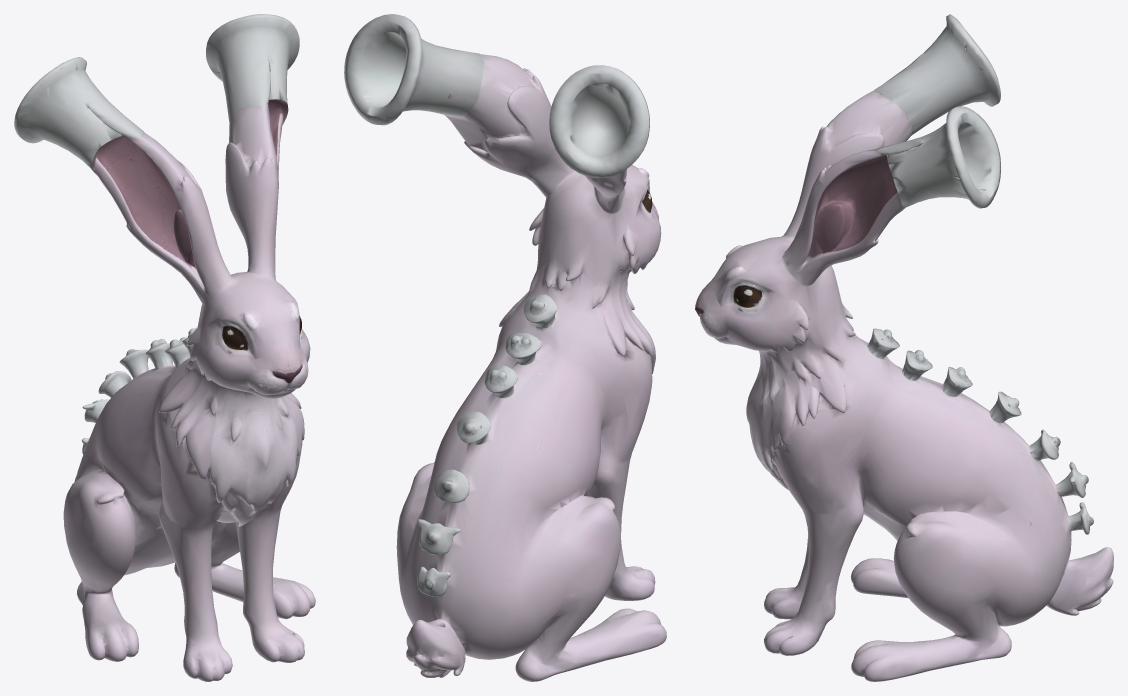
3 renders of one model, left to right at view 1: azimuth 30°, elevation 25°; view 2: azimuth 150°, elevation 25°; view 3: azimuth 270°, elevation 25°, orthographic. The views are drawn at different scales.
Visible parts, largest first — view 1: Mesh_0; view 2: Mesh_0; view 3: Mesh_0.
Part boxes in pixels (x1,y1,x2,y2): Mesh_0: (14,14,315,681); Mesh_0: (344,14,666,681); Mesh_0: (695,14,1113,681).
Bounding box in the file's own units: 0.9923 × 1.9 × 1.28.
1 material, 1 textured.
